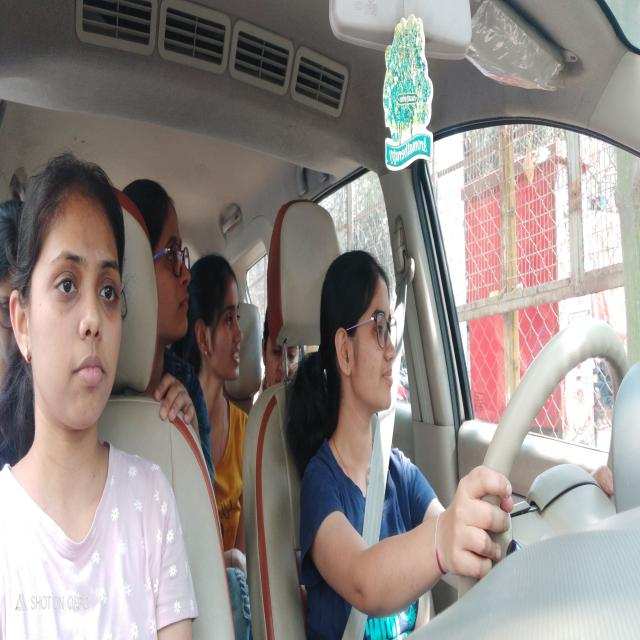person: (12, 157, 132, 459), (316, 236, 398, 448), (122, 180, 194, 354), (190, 242, 248, 398), (260, 306, 302, 382)
